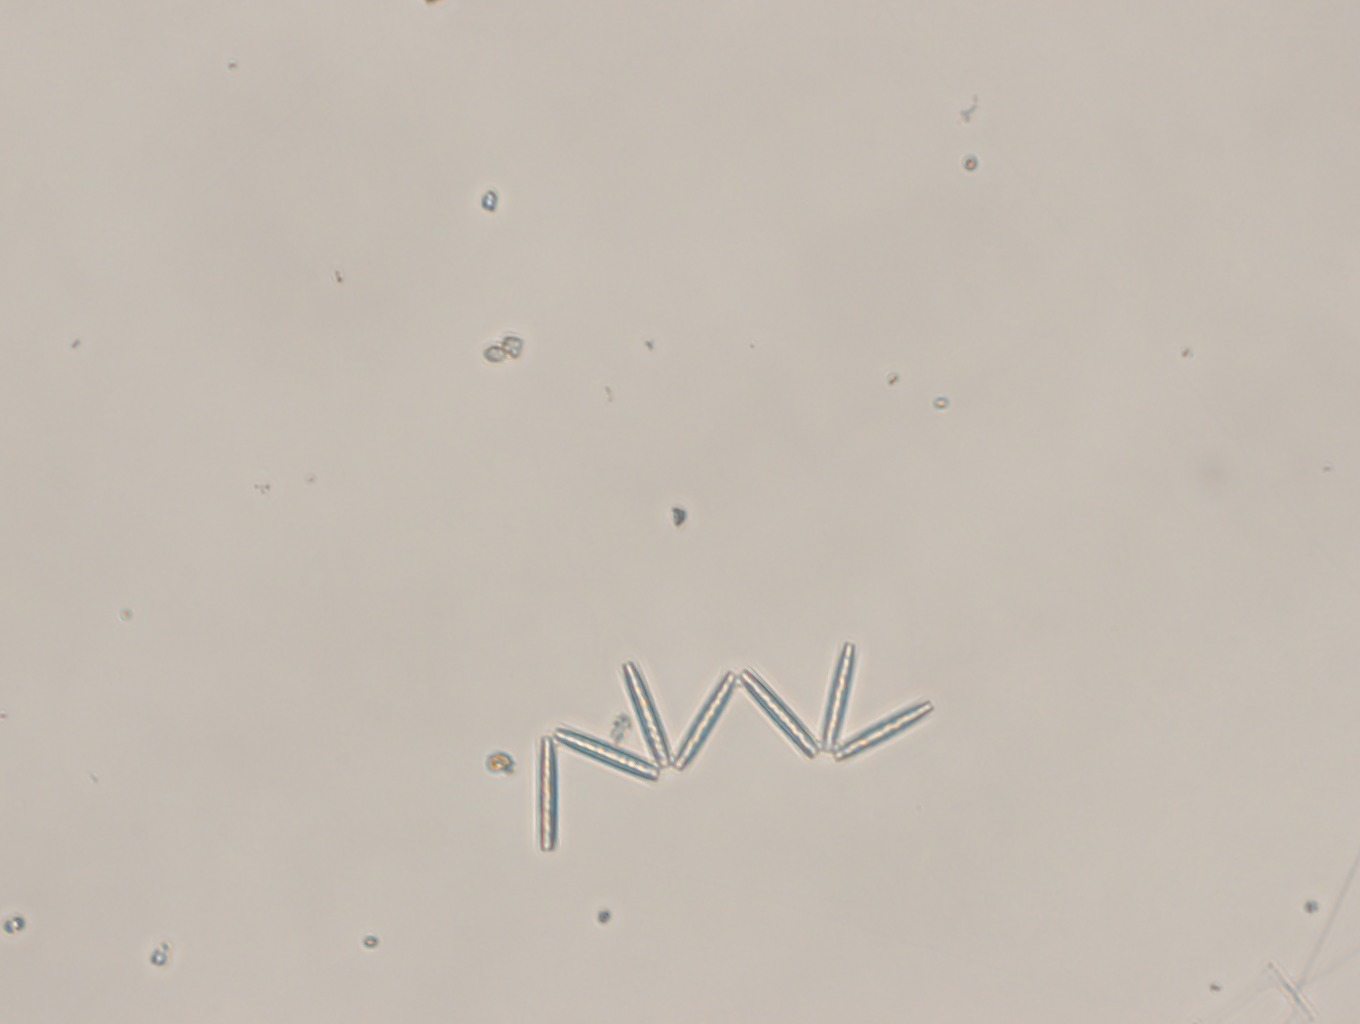thalassionema nitzschioides: (530, 637, 953, 861)
